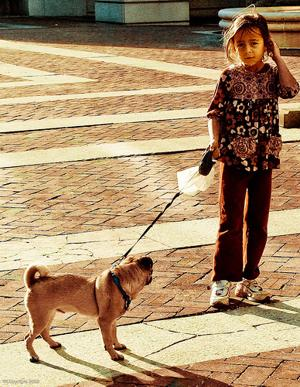person: (207, 9, 300, 307)
